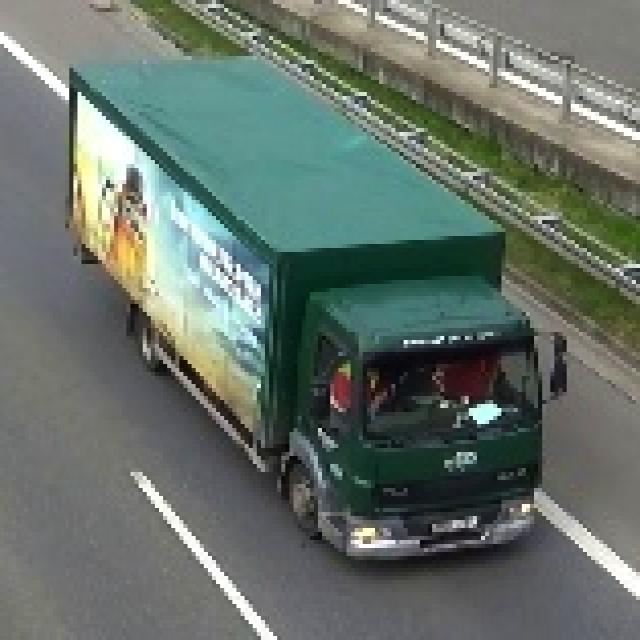truck: (66, 57, 564, 557)
